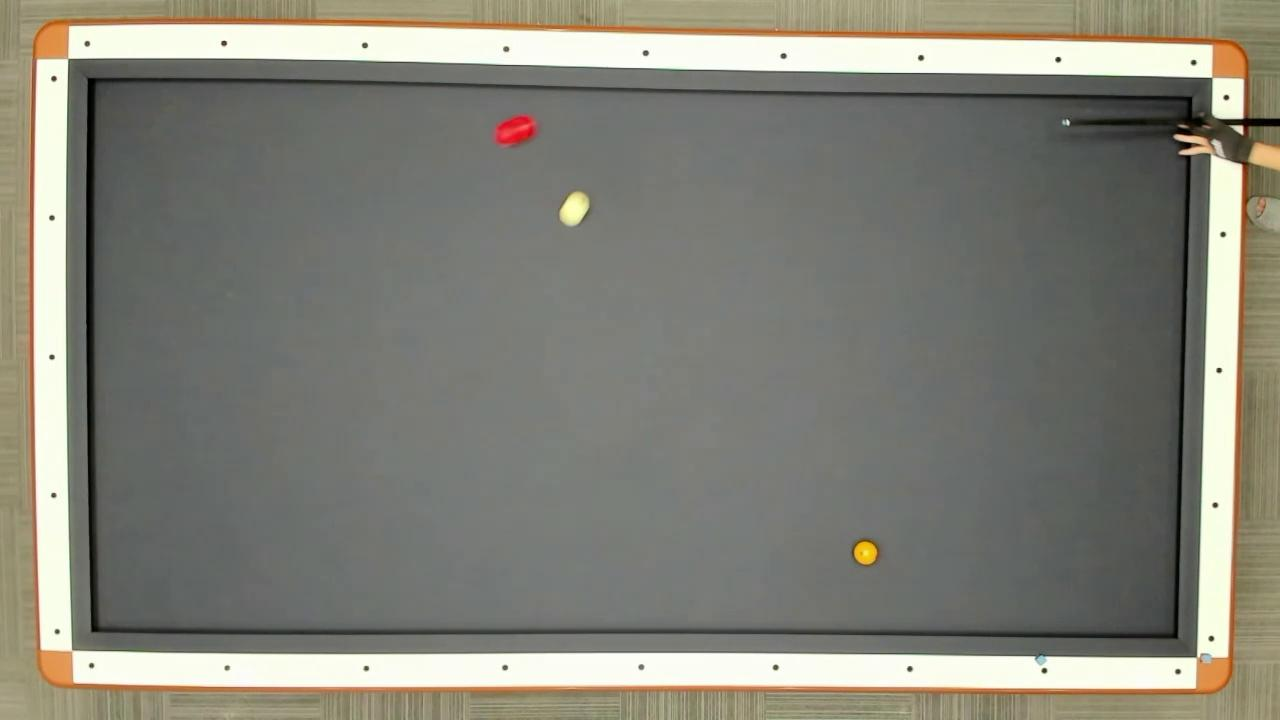Red: (490, 113, 540, 151)
White: (556, 189, 592, 229)
Yellow: (851, 538, 879, 567)
